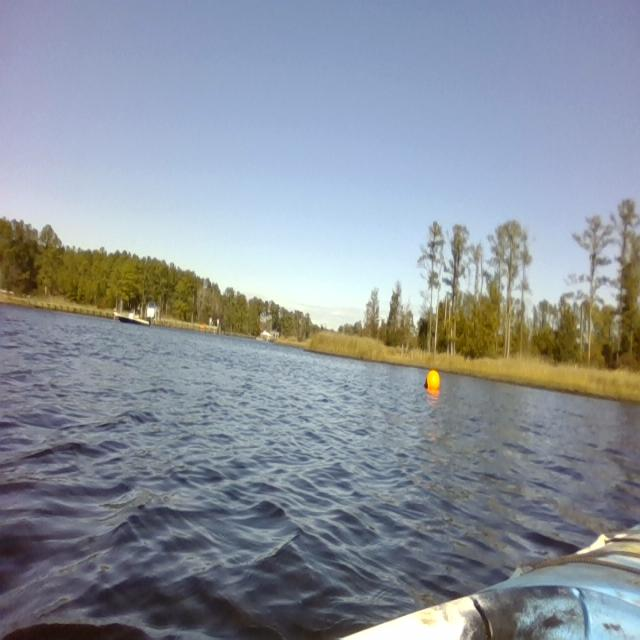Buoy: (420, 363, 442, 396)
